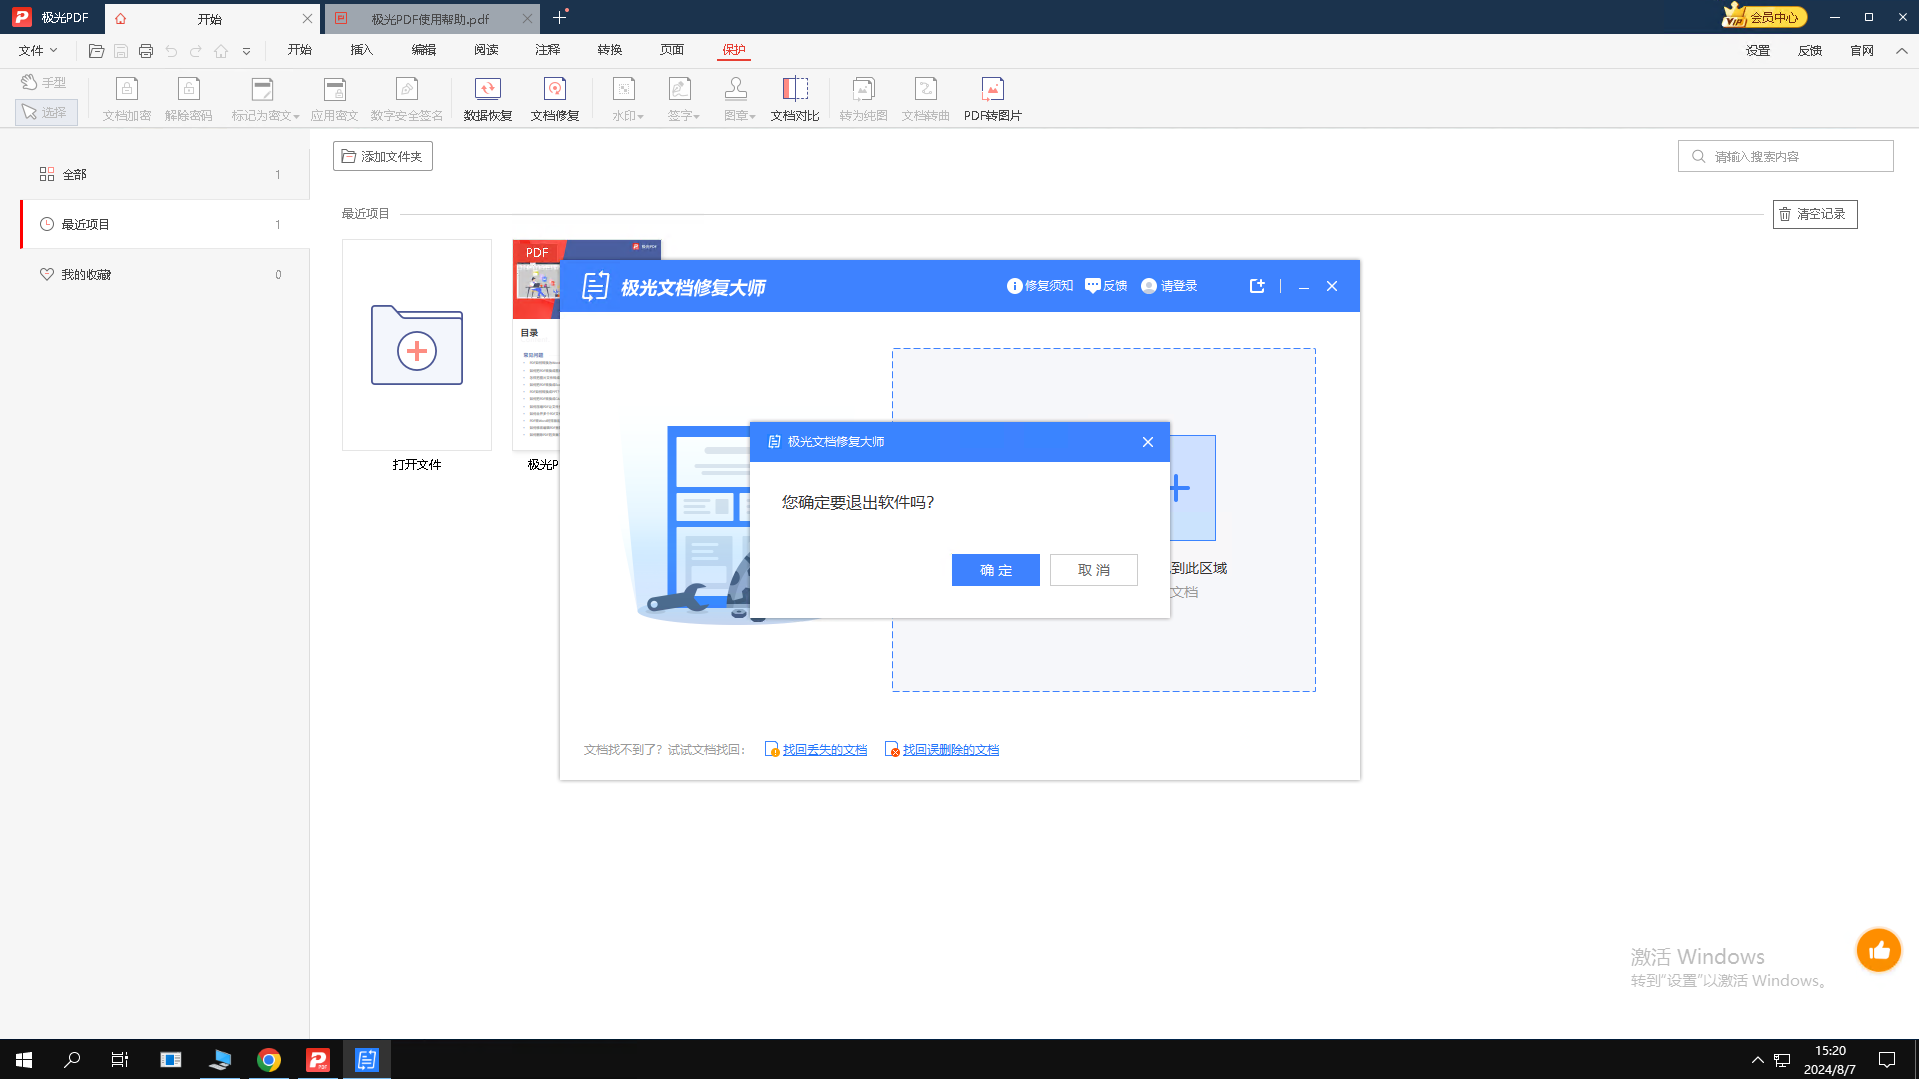Clickable: (1049, 549, 1143, 592), (952, 549, 1039, 588), (1130, 426, 1166, 458)
Root: (751, 423, 1170, 621)
level_0: (747, 461, 1173, 621), (749, 422, 1174, 461)
